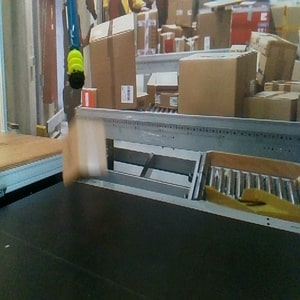box: (60, 115, 108, 188)
